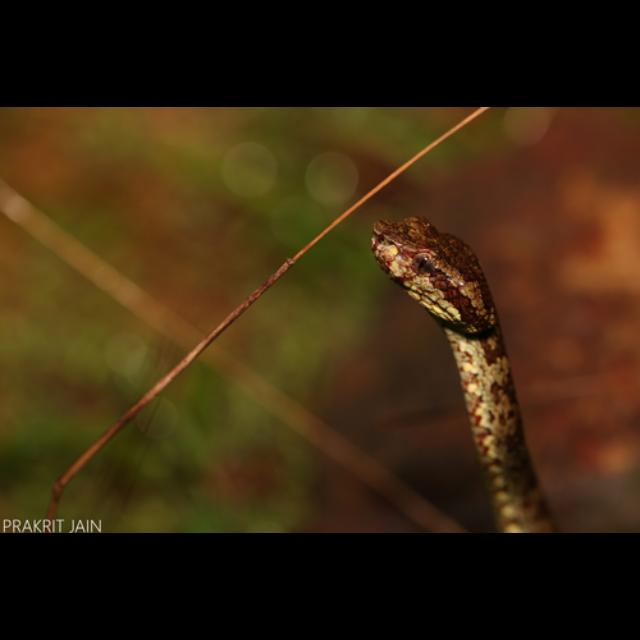snake: (368, 216, 566, 534)
